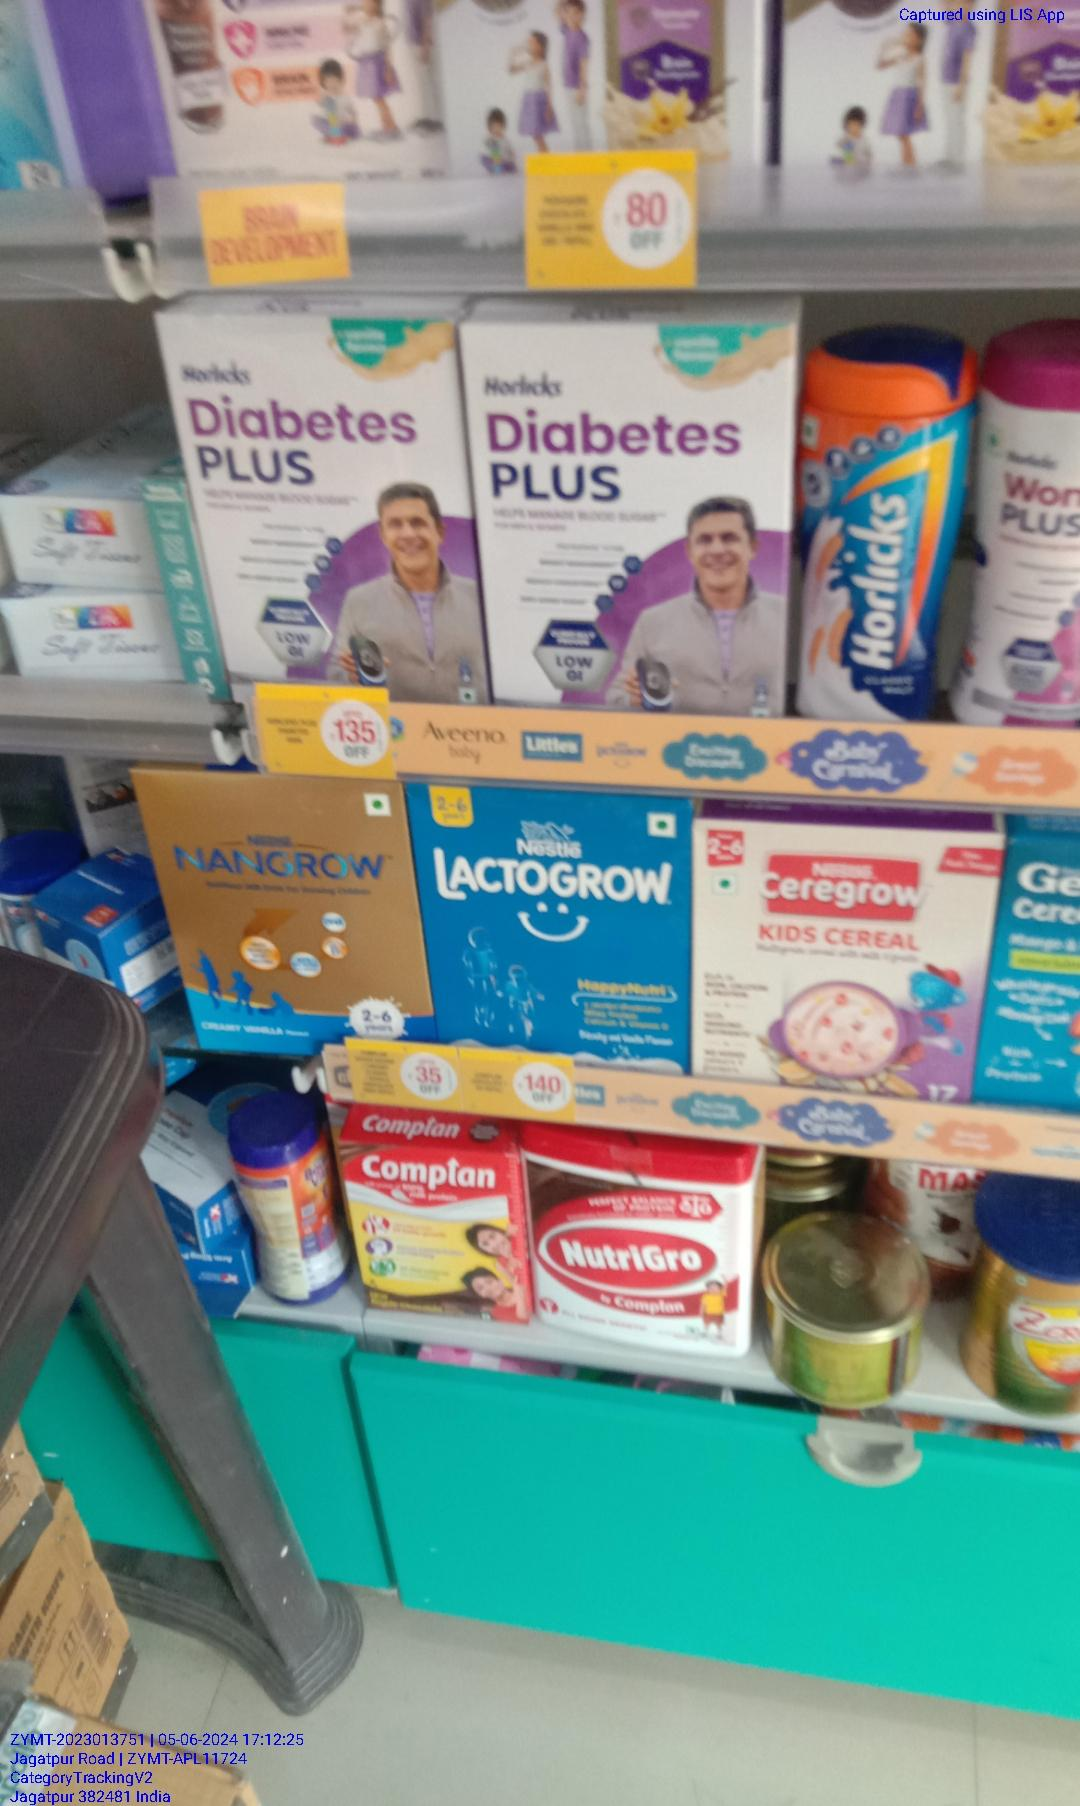COMPLAN_CHOCOLATE_500_GMS_PACK: (348, 1141, 528, 1324)
HORLICK_CLASSIC_MALT_500_G_JAR: (798, 319, 972, 722)
